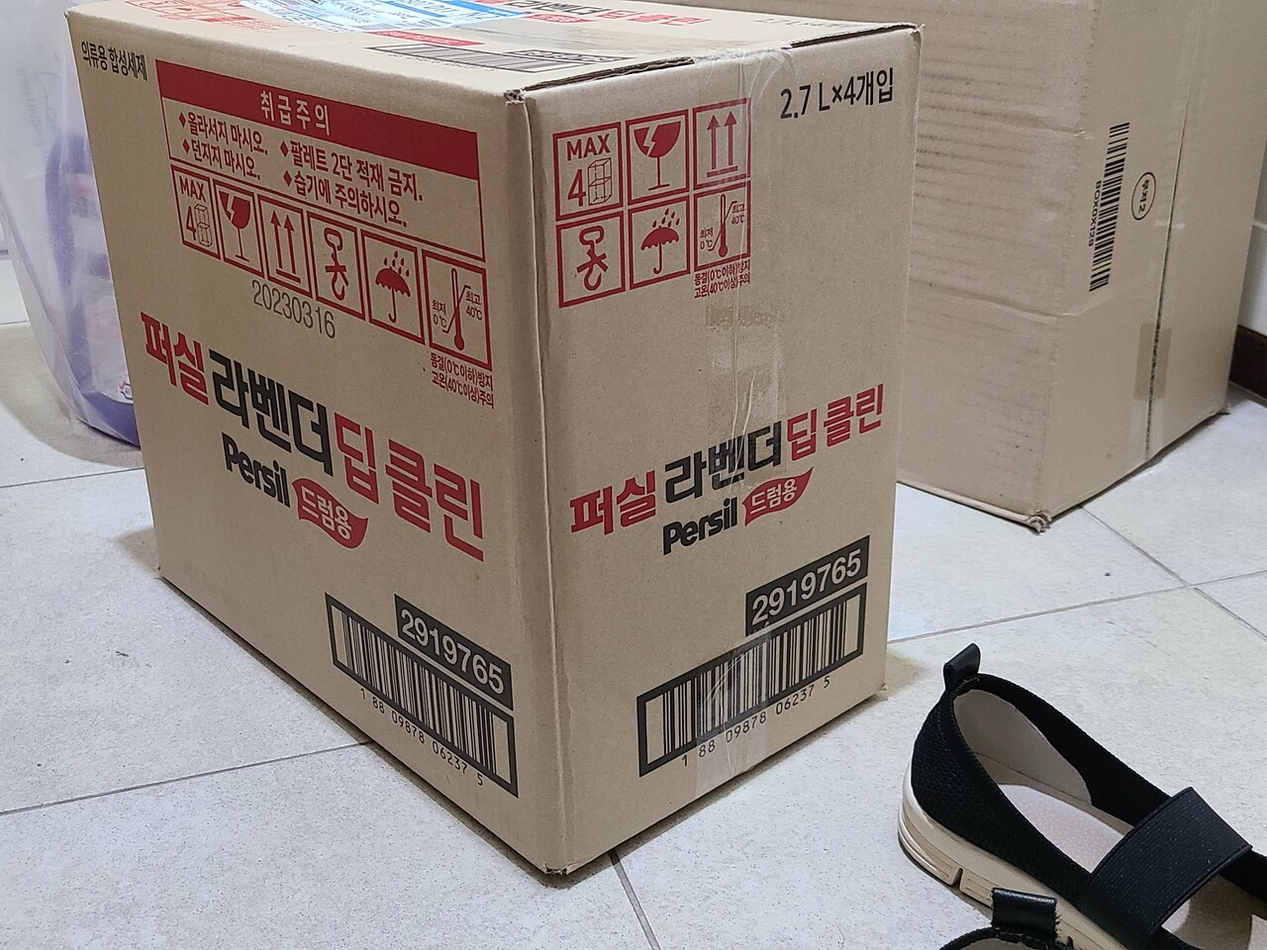undamaged: (57, 3, 930, 900), (626, 0, 1266, 536)
